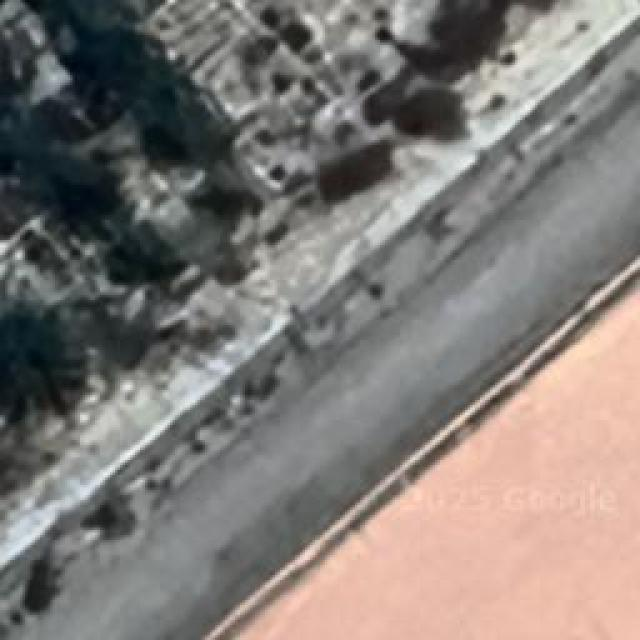PalmTree: (0, 288, 80, 422), (145, 91, 225, 174), (48, 150, 114, 225), (108, 228, 182, 294), (5, 104, 60, 188), (74, 15, 110, 70)
